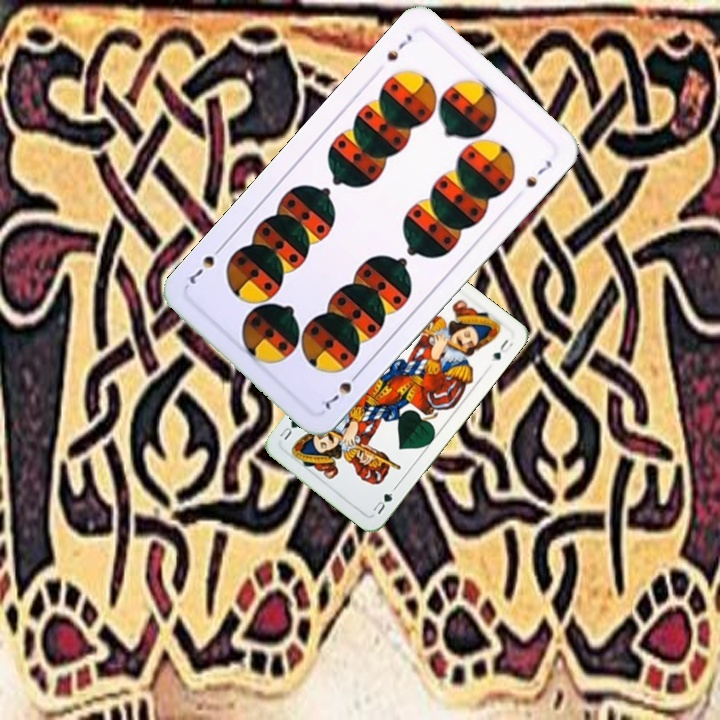GU: (367, 489, 395, 517)
S7: (316, 367, 364, 412), (382, 29, 415, 64)
